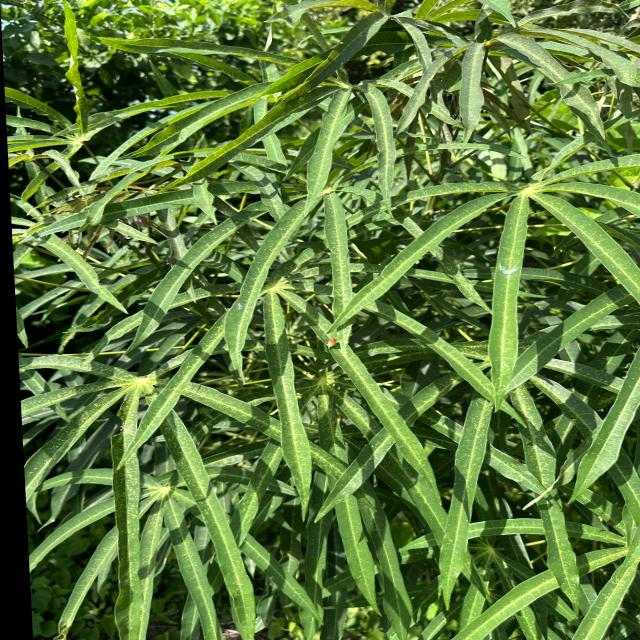Mosca: (318, 329, 344, 352)
